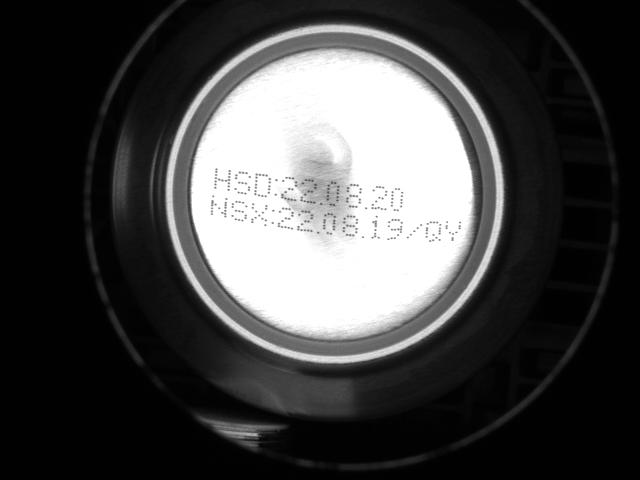.: (318, 191, 324, 206), (315, 220, 321, 235), (362, 195, 368, 210), (360, 224, 366, 239)
/: (405, 219, 423, 242)
0: (325, 179, 341, 208), (321, 208, 337, 237), (389, 185, 405, 214)
1: (369, 213, 382, 239)
2: (369, 183, 389, 210), (280, 174, 299, 202), (276, 204, 295, 232), (298, 177, 317, 205), (296, 206, 315, 234)
8: (345, 180, 363, 209), (341, 212, 360, 239)
9: (384, 215, 403, 241)
:: (273, 177, 280, 198), (269, 206, 276, 227)
D: (253, 171, 273, 199)
H: (211, 166, 232, 193)
N: (209, 194, 228, 219)
Q: (424, 217, 442, 245)
S: (232, 169, 253, 197), (229, 195, 250, 223)
X: (249, 200, 269, 226)
Y: (444, 218, 463, 244)
